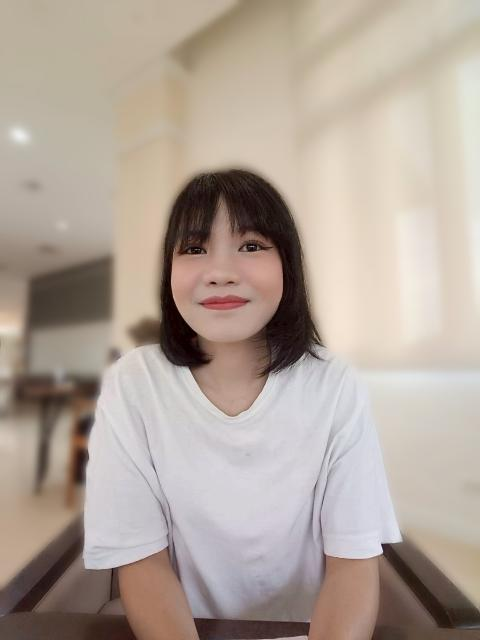fokus: (169, 179, 285, 343)
